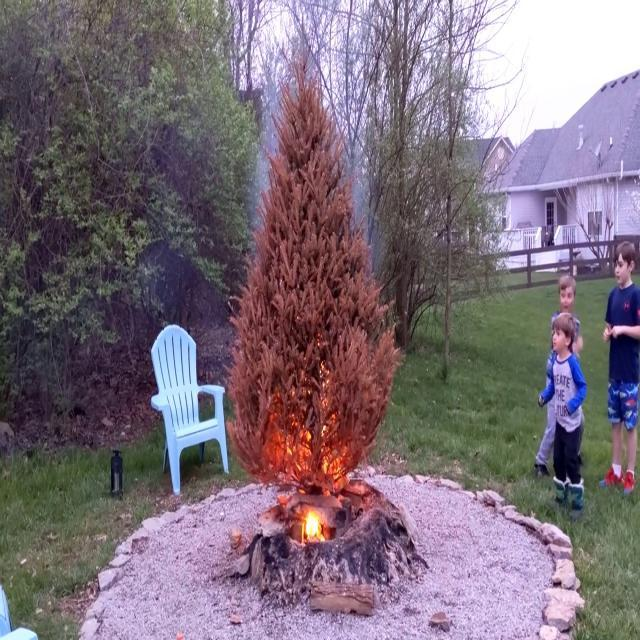Fire: (300, 502, 326, 545)
